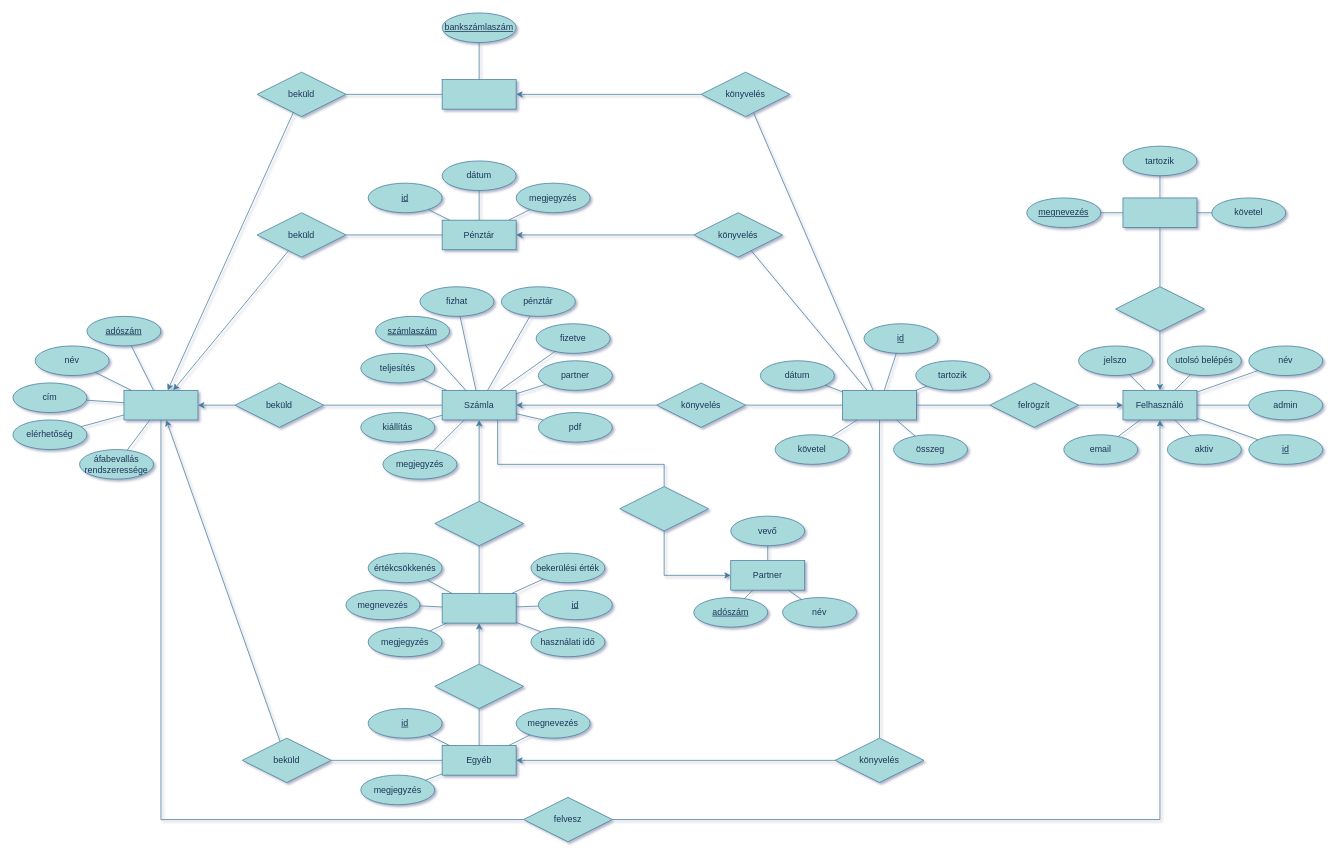
The diagram is 1340 pixels wide and 859 high, and some of its shapes have lost their labels. The shapes that lost their labels are listed below. From the top down, each one's centre as x and y in pixels, then its label:
At [478,94]: "Bank".
At [1159,212]: "Sablon".
At [1159,308]: "rögzít".
At [160,405]: "Cég".
At [879,405]: "Könyvelési tétel".
At [479,523]: "tartalmaz".
At [664,508]: "kezelés".
At [478,608]: "Tárgyi eszköz".
At [479,686]: "amortizáció".
